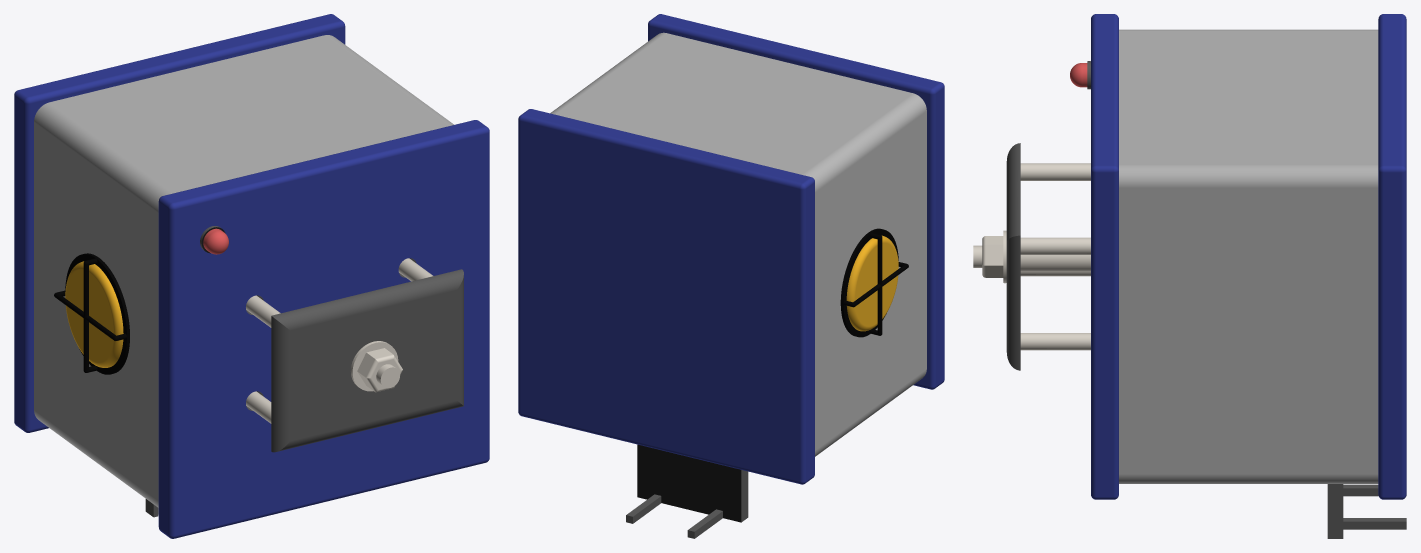
Rendered from Fabric low poly v5.fbx.
3 renders of one model, left to right at view 1: azimuth 30°, elevation 25°; view 2: azimuth 150°, elevation 25°; view 3: azimuth 270°, elevation 25°, orthographic. The views are drawn at different scales.
Parts seen in each view (by area): view 1: Base, Press, light, window; view 2: Base, light, window; view 3: Base, Press.
Boxes of the visible parts, <box> form: Base: <box>14,14,489,538</box>; Press: <box>246,258,463,452</box>; light: <box>65,261,123,367</box>; window: <box>54,253,129,374</box>; Base: <box>518,14,944,538</box>; light: <box>846,235,898,331</box>; window: <box>840,228,908,337</box>; Base: <box>1087,14,1406,538</box>; Press: <box>973,143,1090,370</box>.
Size of the model in its own units: 1075 by 1325 by 1235.
